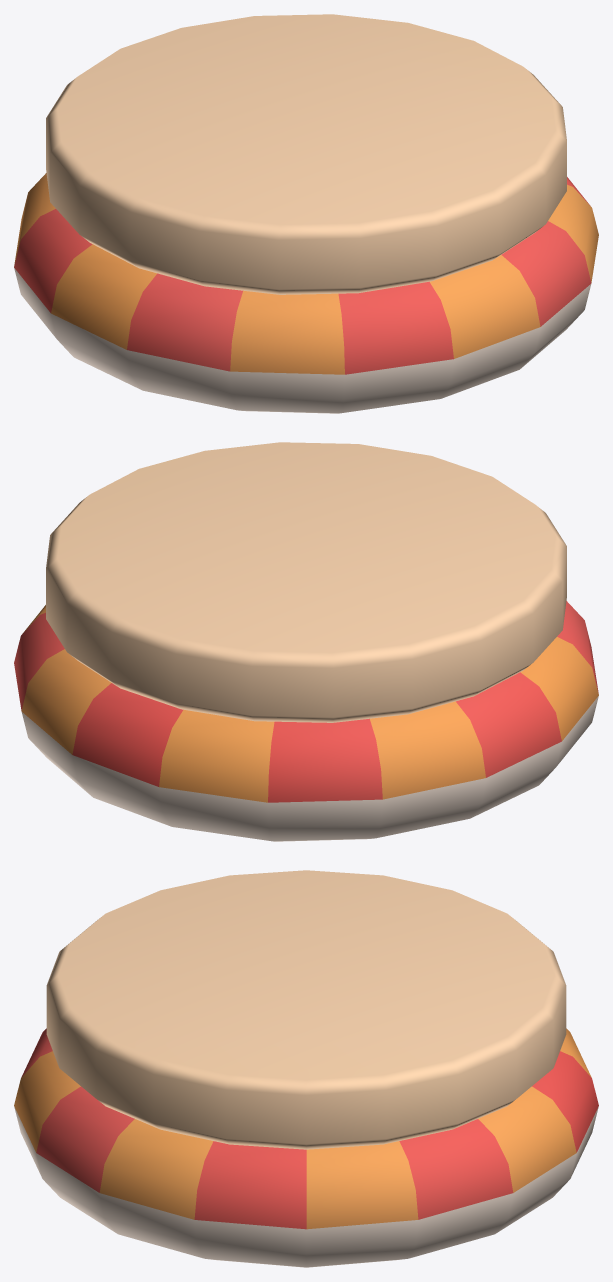
The model's file is Ban phao.fbx.
3 renders of one model, top to bottom at view 1: azimuth 30°, elevation 25°; view 2: azimuth 150°, elevation 25°; view 3: azimuth 270°, elevation 25°, orthographic.
Visible parts, largest first — view 1: Ban_phao; view 2: Ban_phao; view 3: Ban_phao.
Boxes of the visible parts, left/top/right/bottom form: Ban_phao: left=14, top=14, right=598, bottom=413; Ban_phao: left=14, top=442, right=598, bottom=841; Ban_phao: left=14, top=870, right=598, bottom=1267.
Size of the model in its own units: 182 by 65.7 by 182.
